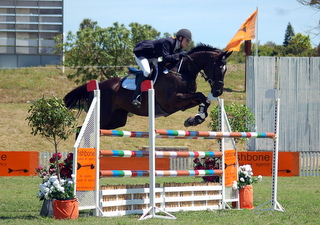person: (133, 29, 194, 108)
